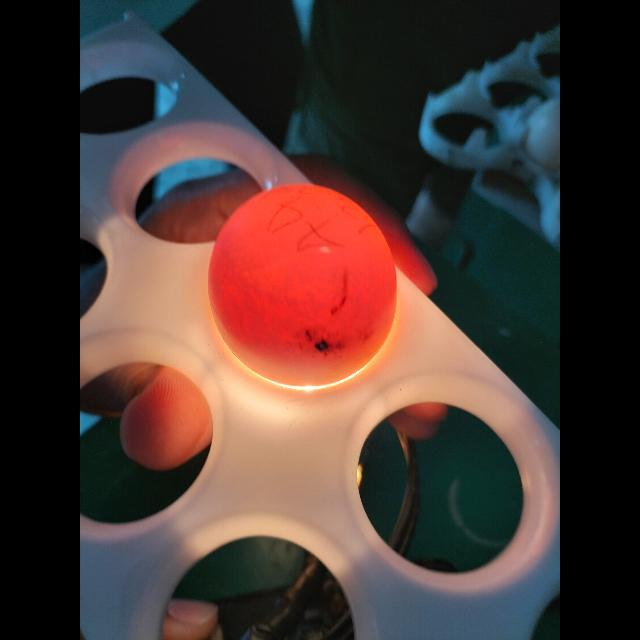Infertile: (208, 182, 400, 380)
